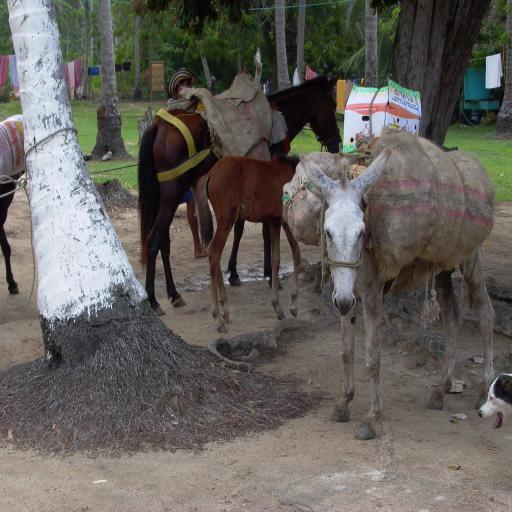horse: (134, 75, 344, 318), (193, 152, 299, 334), (0, 170, 27, 296)
